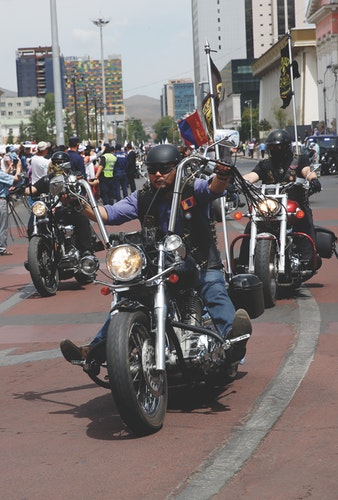helmet: (146, 143, 175, 172), (262, 133, 291, 159), (49, 152, 72, 164)
